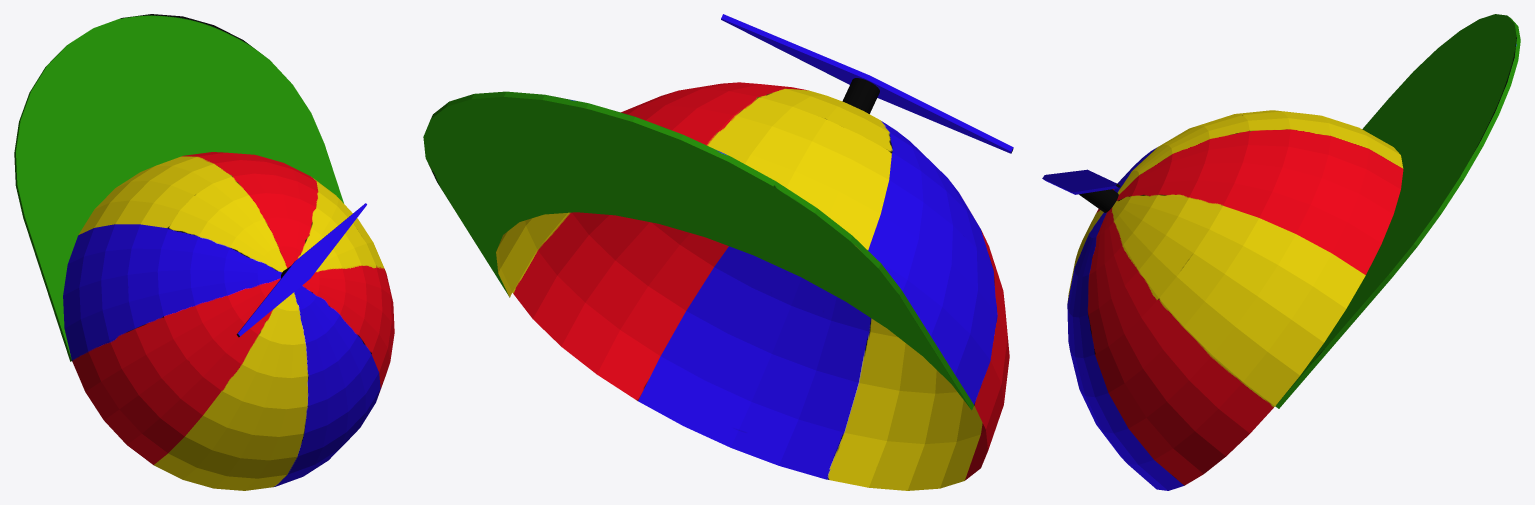
File: PropelerHat.fbx
3 views of the same model, side by side, from view 1: azimuth 30°, elevation 25°; view 2: azimuth 150°, elevation 25°; view 3: azimuth 270°, elevation 25° (orthographic). The views are drawn at different scales.
Parts seen in each view (by area): view 1: hat; view 2: hat; view 3: hat.
Boxes of the visible parts, x1=… form: hat: x1=14, y1=14, x2=394, y2=490; hat: x1=423, y1=14, x2=1013, y2=490; hat: x1=1042, y1=14, x2=1520, y2=490.
Bounding box in the file's own units: 93.44 × 106 × 107.
